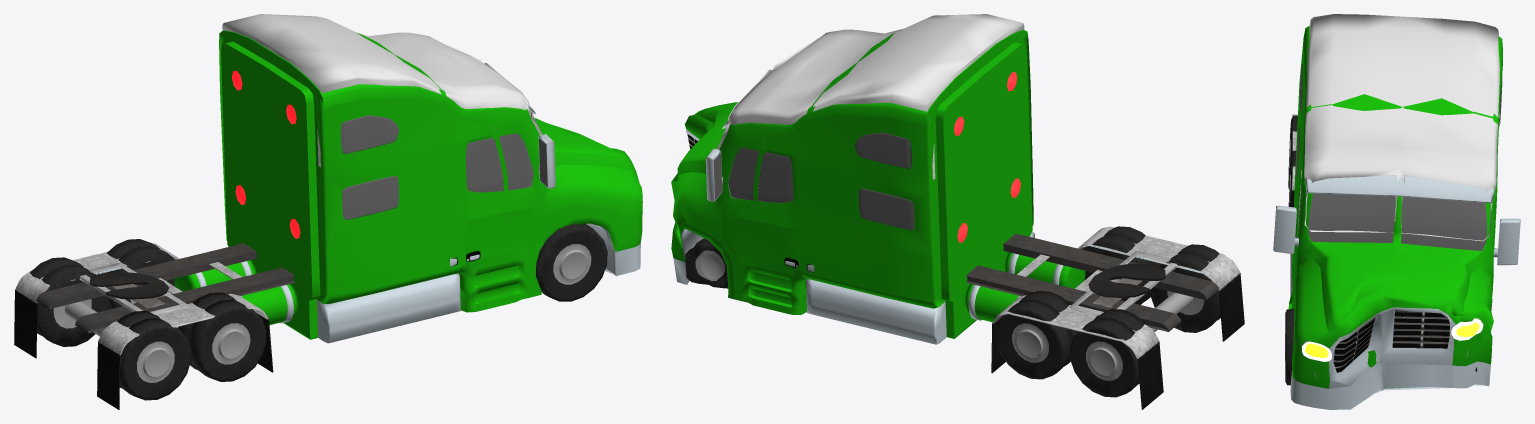
Rendered from CrashSemi.fbx.
The picture shows the model from 3 angles, left to right: view 1: azimuth 30°, elevation 25°; view 2: azimuth 150°, elevation 25°; view 3: azimuth 270°, elevation 25°; orthographic projection. The views are drawn at different scales.
Parts seen in each view (by area): view 1: Truck.001, Torus, Truck_Inside, CrashTire; view 2: Truck.001, Truck_Inside, Torus, CrashTire; view 3: Truck.001, Truck_Inside, CrashTire, Torus.
Boxes of the visible parts, <box> form: Truck.001: <box>14,30,642,409</box>; Torus: <box>30,239,266,400</box>; Truck_Inside: <box>222,14,542,169</box>; CrashTire: <box>536,224,607,301</box>; Truck.001: <box>671,29,1244,409</box>; Truck_Inside: <box>717,14,1024,179</box>; Torus: <box>996,226,1220,397</box>; CrashTire: <box>685,238,728,288</box>; Truck.001: <box>1273,26,1520,409</box>; Truck_Inside: <box>1298,14,1499,241</box>; CrashTire: <box>1285,309,1477,385</box>; Torus: <box>1288,115,1297,206</box>.
Size of the model in its own units: 609 by 300 by 252.
3 materials, 3 textured.
